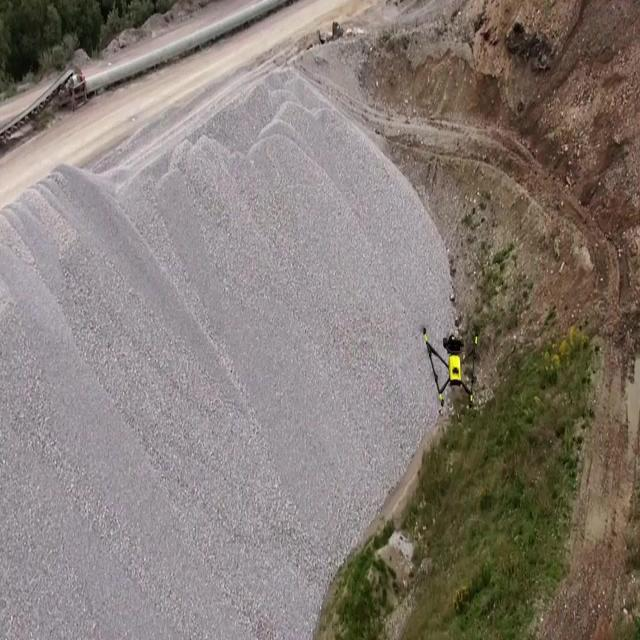drone: (420, 319, 490, 418)
